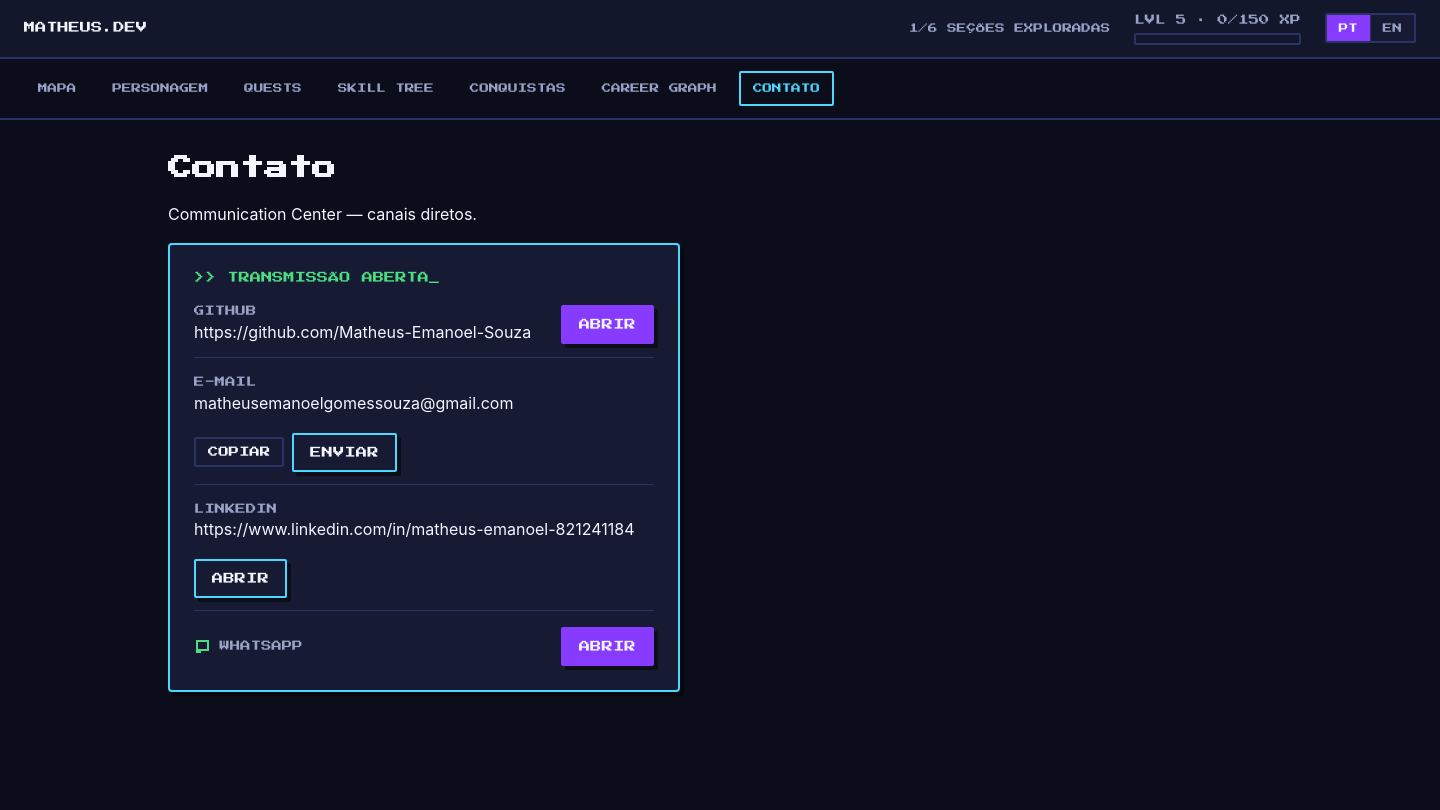
Scenario: App › copies the e-mail to the clipboard from the Contact section
The image size is (1440, 810).
Step 1. Click the button with aria-label "copiar e-mail" → (239,452), box [194, 437, 284, 467]
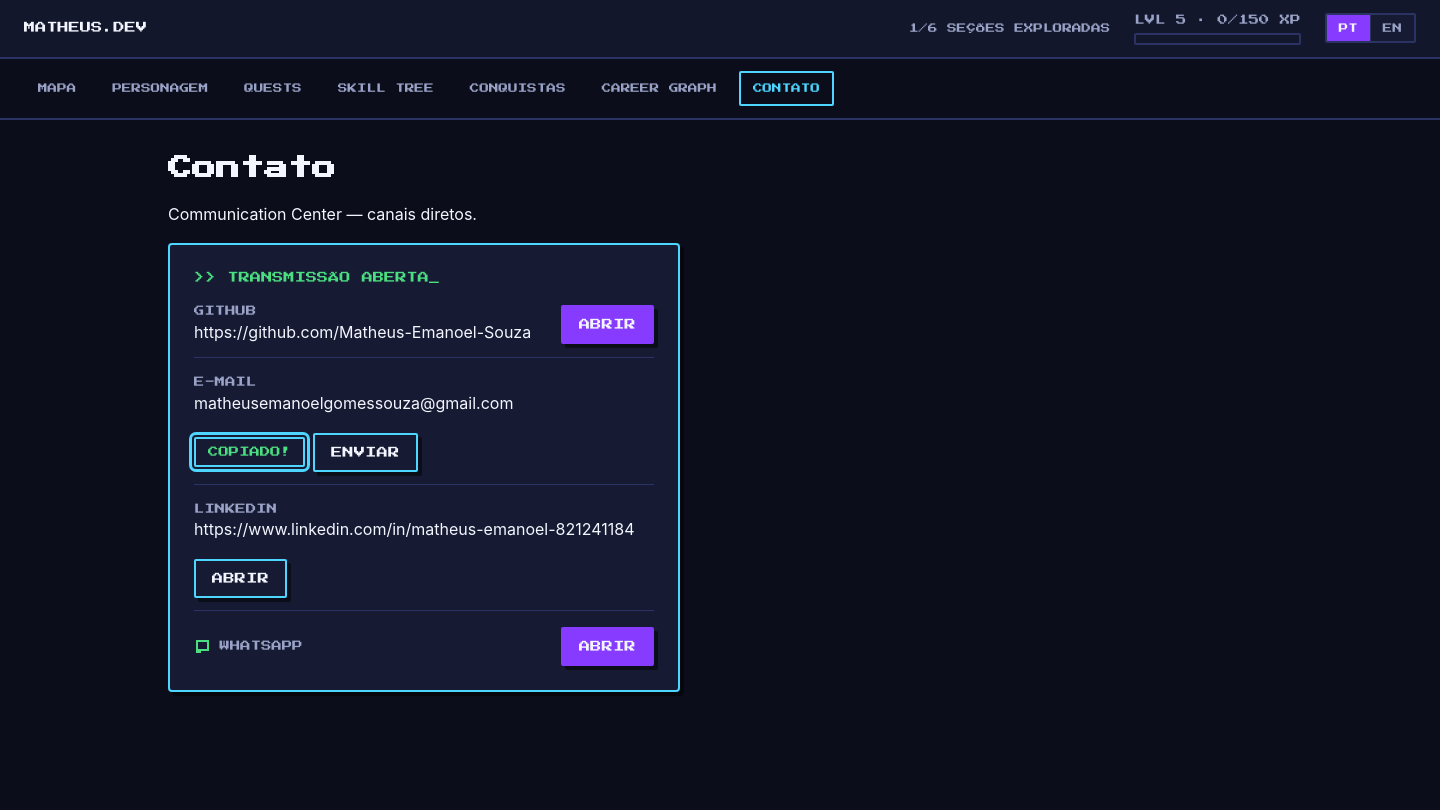
Result: the button with aria-label "e-mail copiado" is shown at [194, 437, 305, 467]
